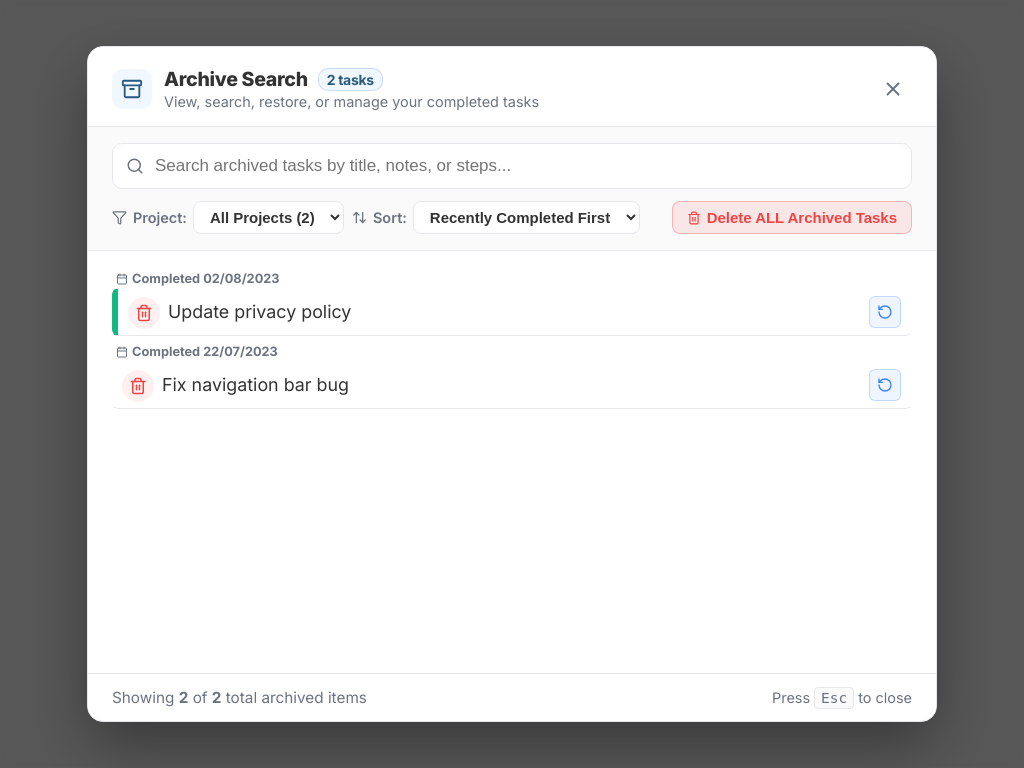
Test case: cancels confirmation popup when Cancel is clicked
# Click on the task description
Click the text "Fix navigation bar bug". click: (255, 384)
box: 162,374 -> 349,395
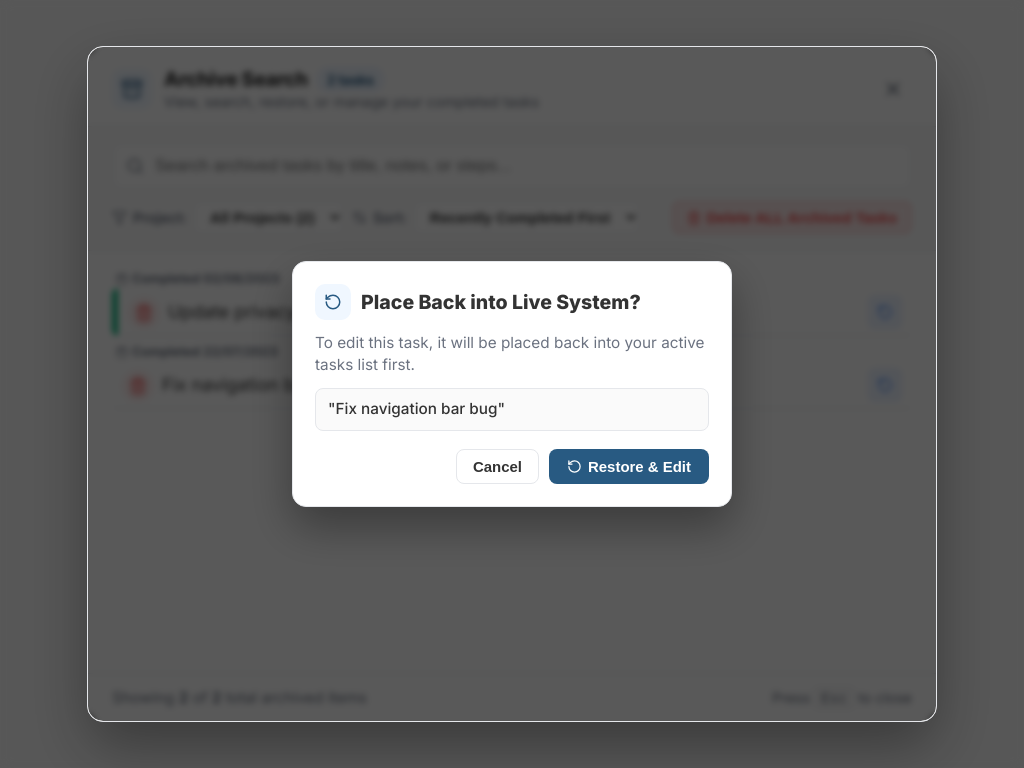
Check: the heading "Place Back into Live System?" is shown, box 361,290 -> 641,314
# Click Cancel
Click the button "Cancel". click: (497, 466)
box: 456,449 -> 539,484
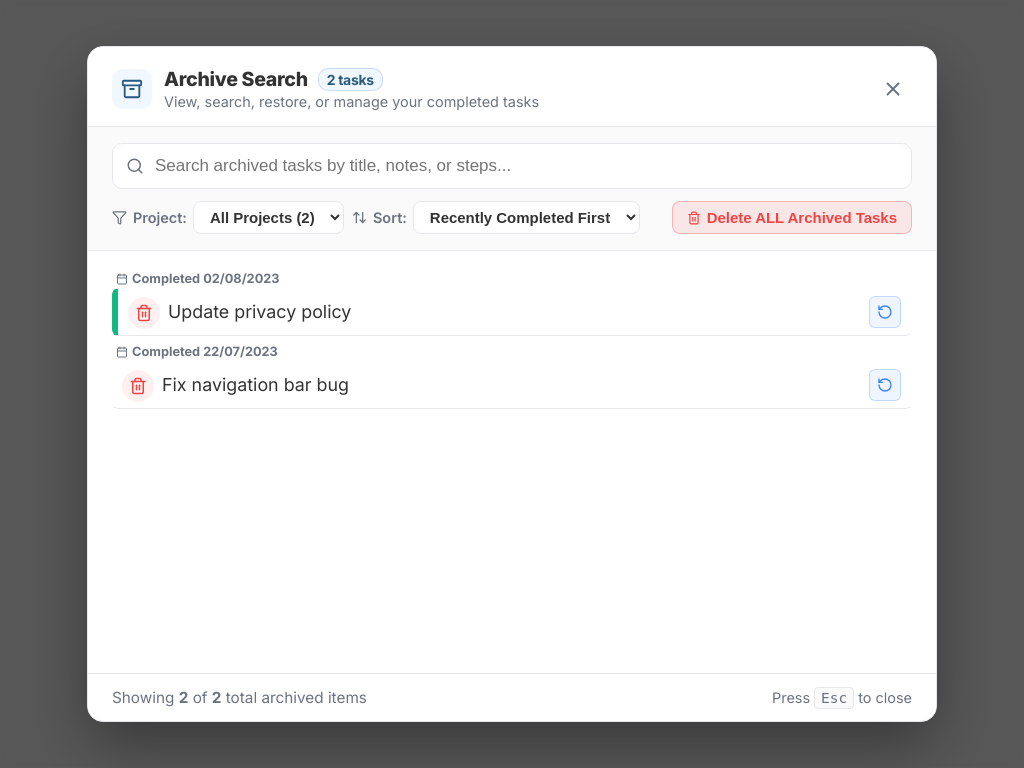
Check: the heading "Place Back into Live System?" is gone
